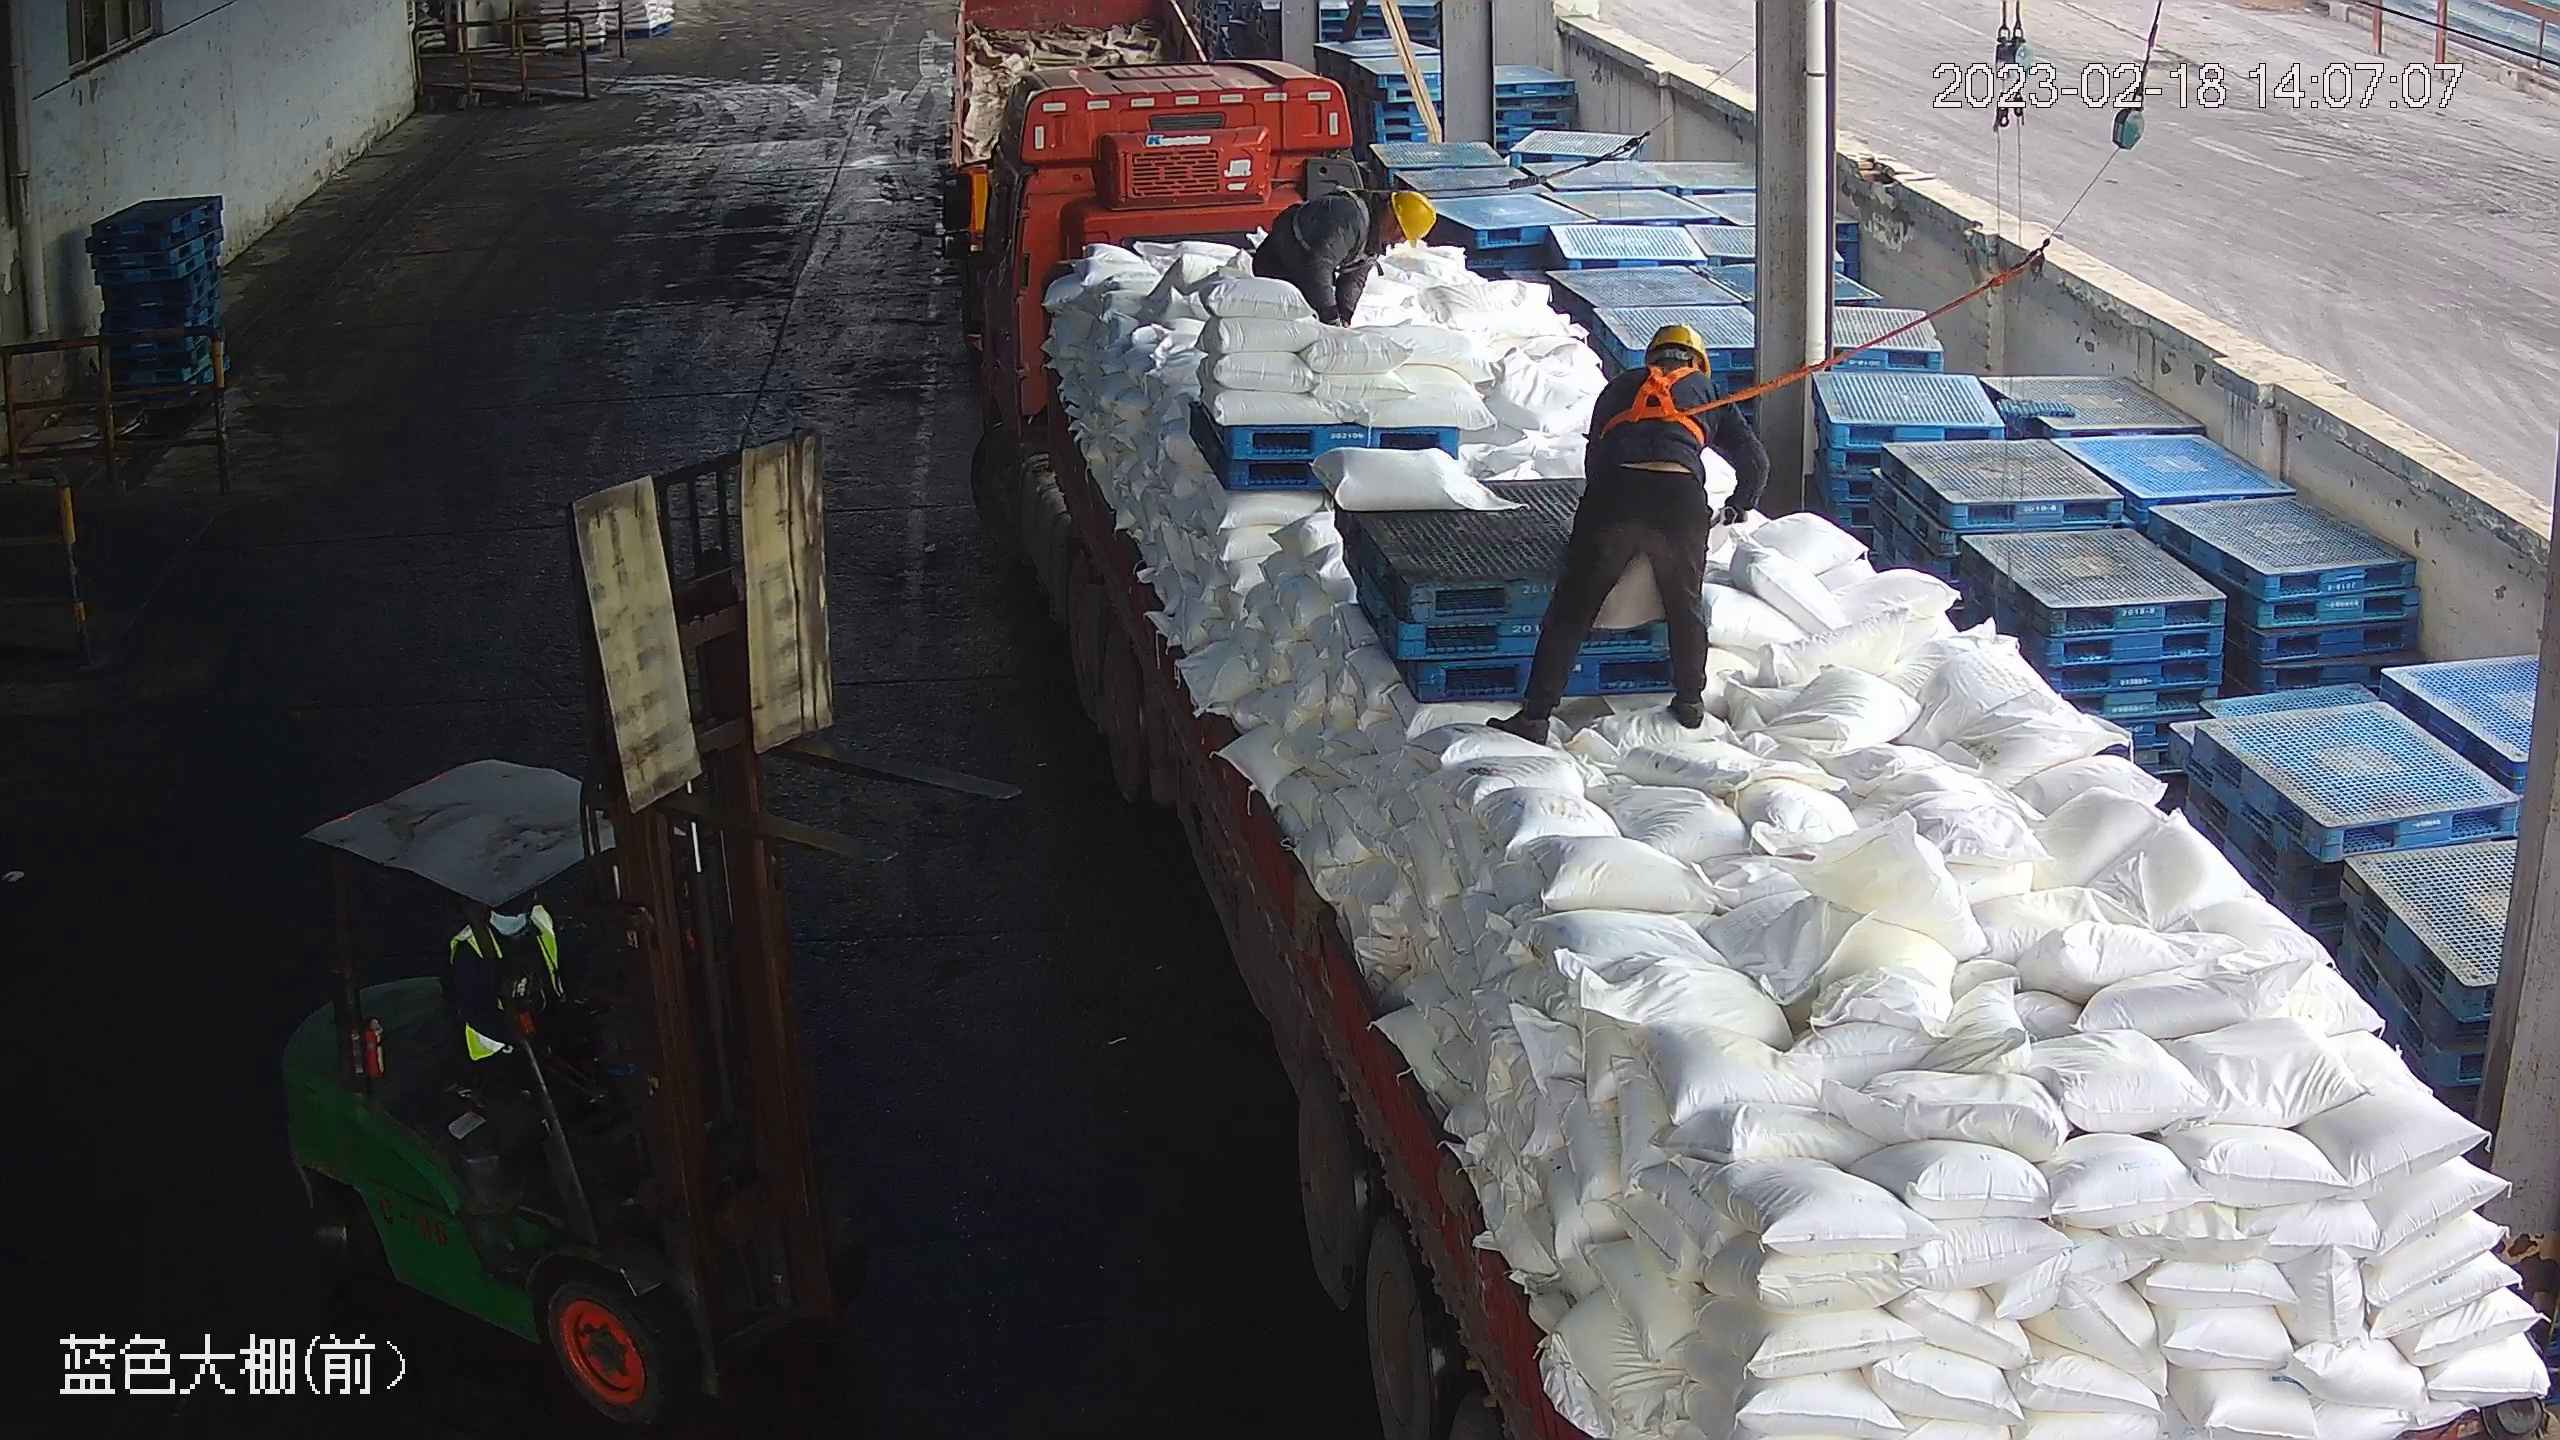belt: (1596, 360, 1763, 450), (1290, 188, 1382, 271)
head: (1584, 325, 1741, 445), (1330, 190, 1436, 269)
helmet: (1644, 323, 1711, 373), (1395, 190, 1436, 245)
people: (1487, 325, 1772, 750), (441, 897, 639, 1248), (1251, 188, 1436, 328)
truck: (937, 57, 2560, 1440)
